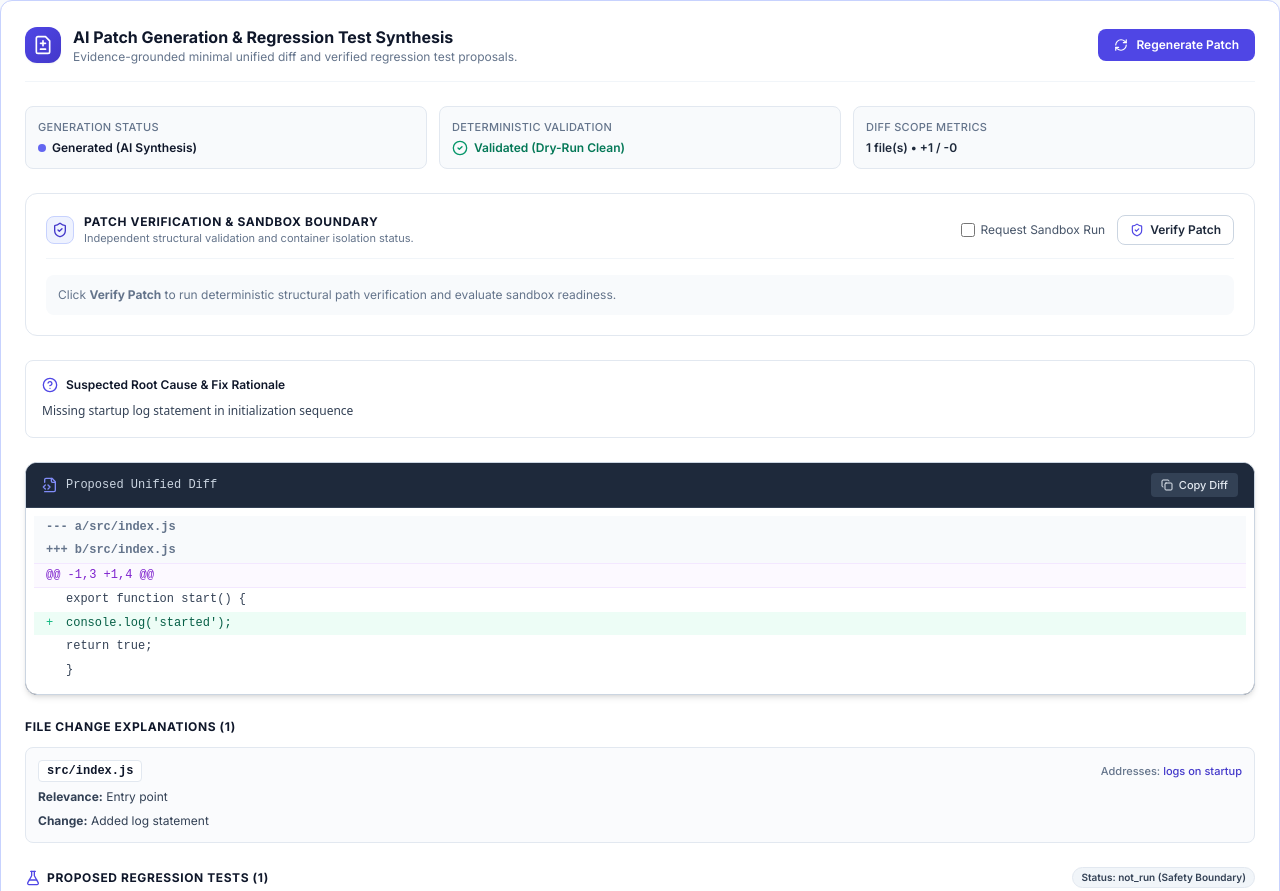
it: PatchReviewCard Frontend Component › renders verification panel and performs structural verification on action
Expected: the heading "Patch Verification & Sandbox Boundary" is shown, [84,214,414,230]
Click the button "Verify Patch". click: [1176, 230]
box: [1117,215,1234,245]
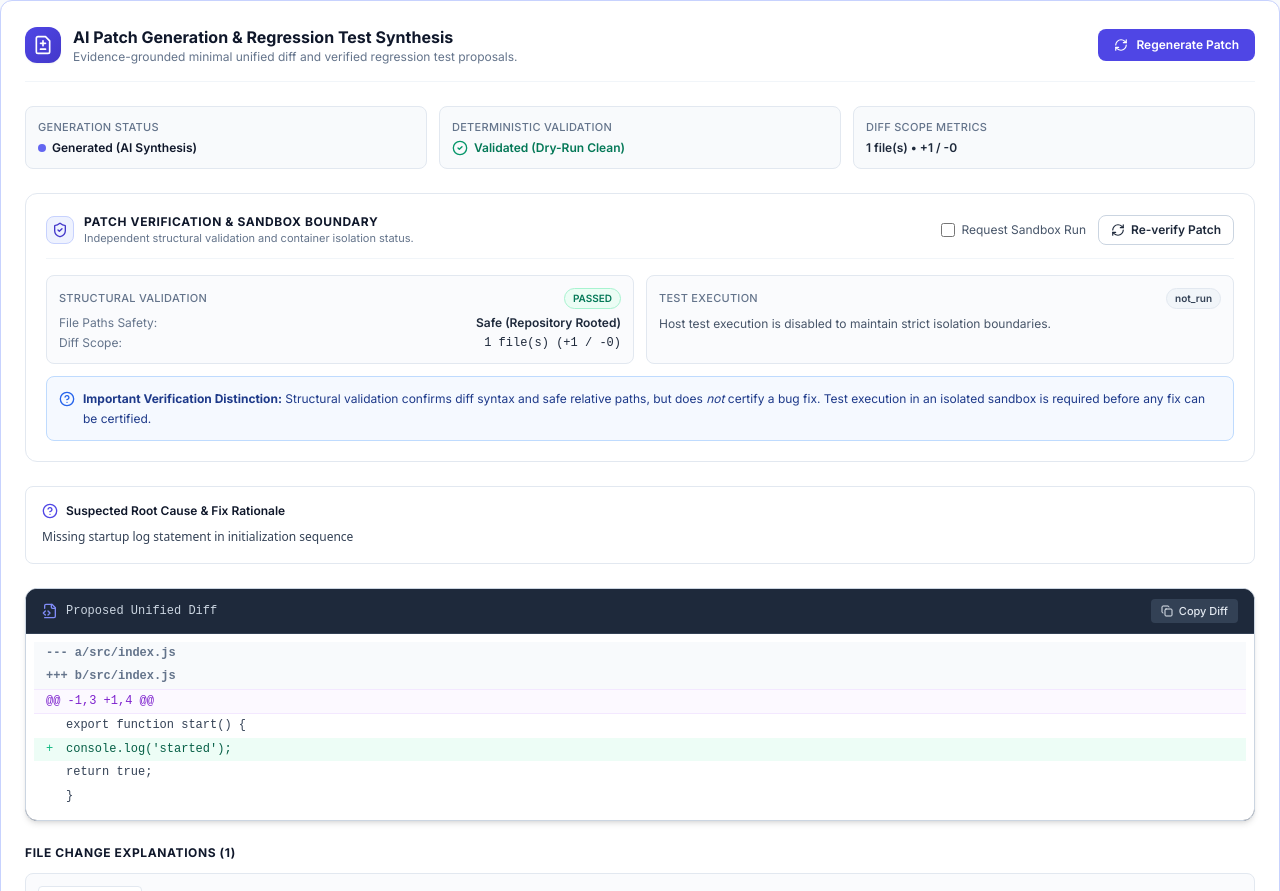
Result: the text "Safe (Repository Rooted)" is shown at [476,315,621,331]
Result: the text "Important Verification Distinction:" is shown at [83,391,282,406]
